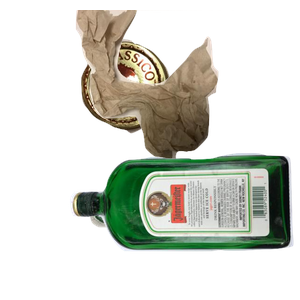glass: (67, 150, 300, 300)
metal: (78, 37, 243, 163)
plastic: (88, 182, 242, 300)
trash: (73, 10, 300, 163)
